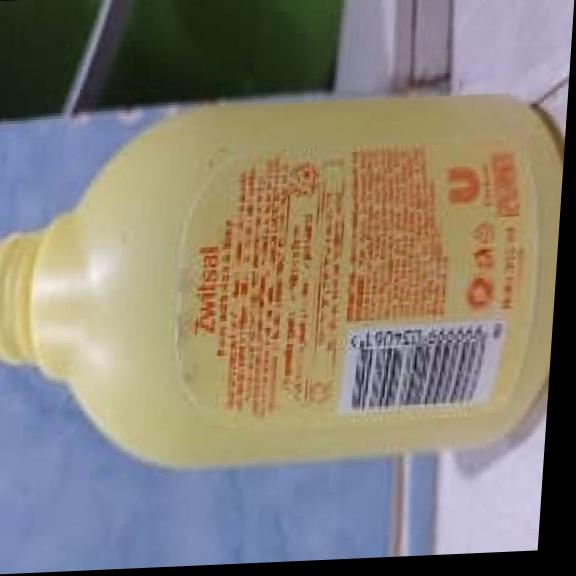Plastik: (0, 94, 561, 466)
